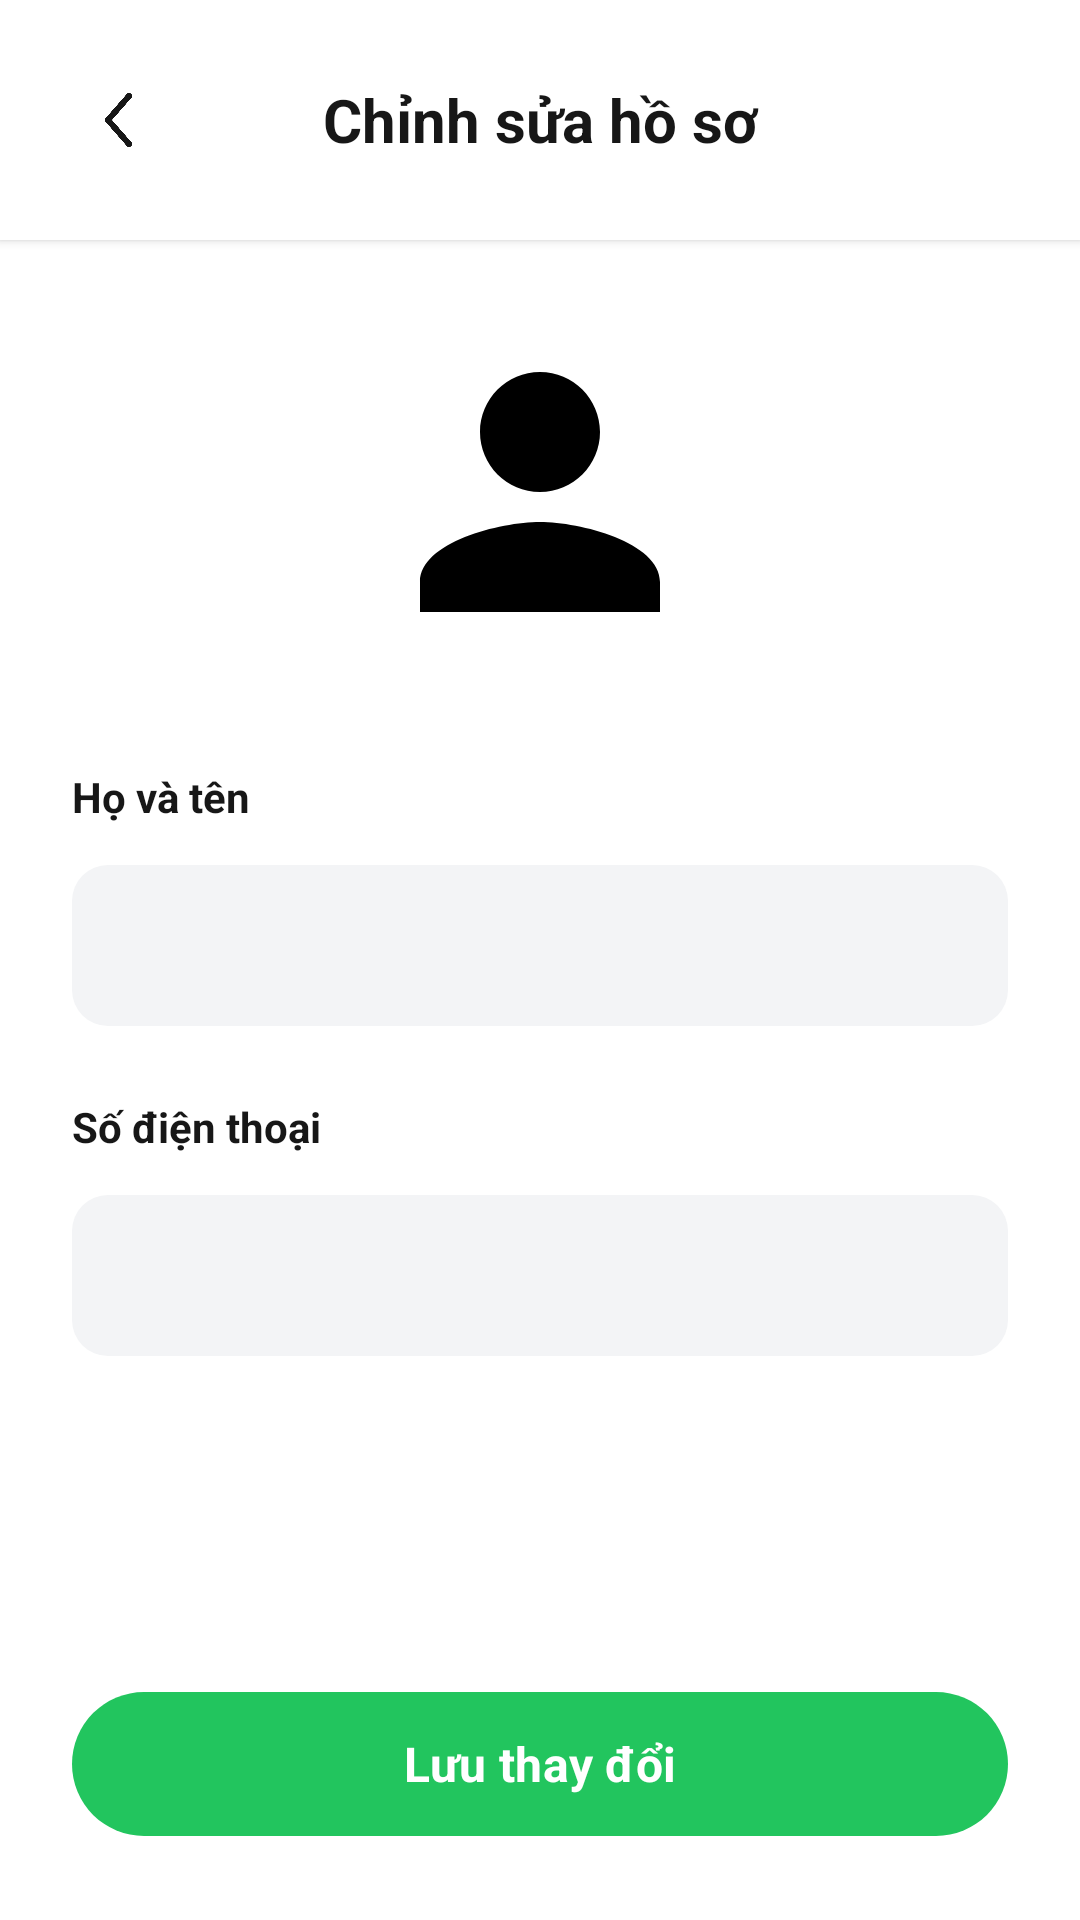

Point at icon controls on the screen. Image size 1080w x 1920h, points as (x=x, y=y).
chevron left: (x=118, y=120)
